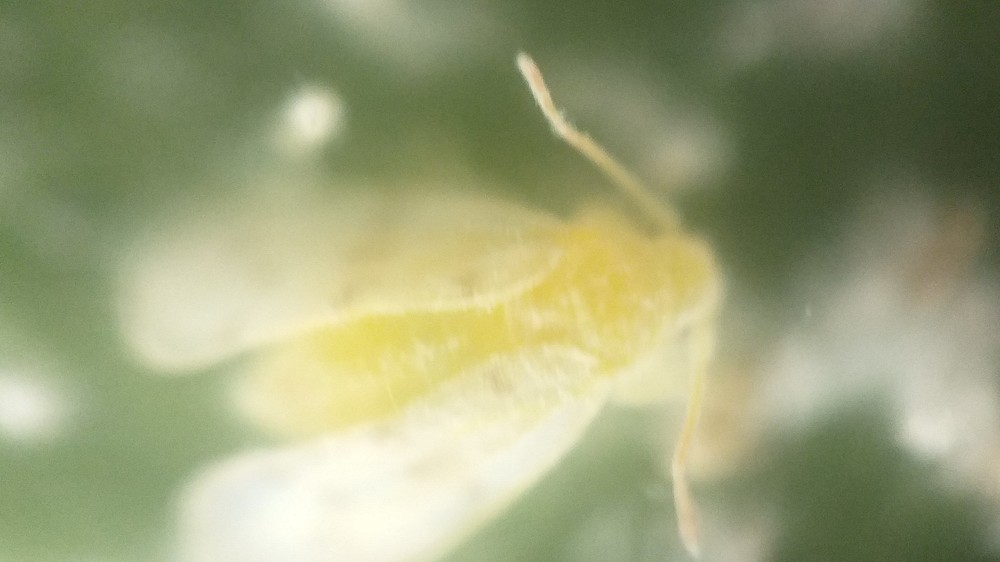Mosca Blanca: (103, 50, 753, 562)
